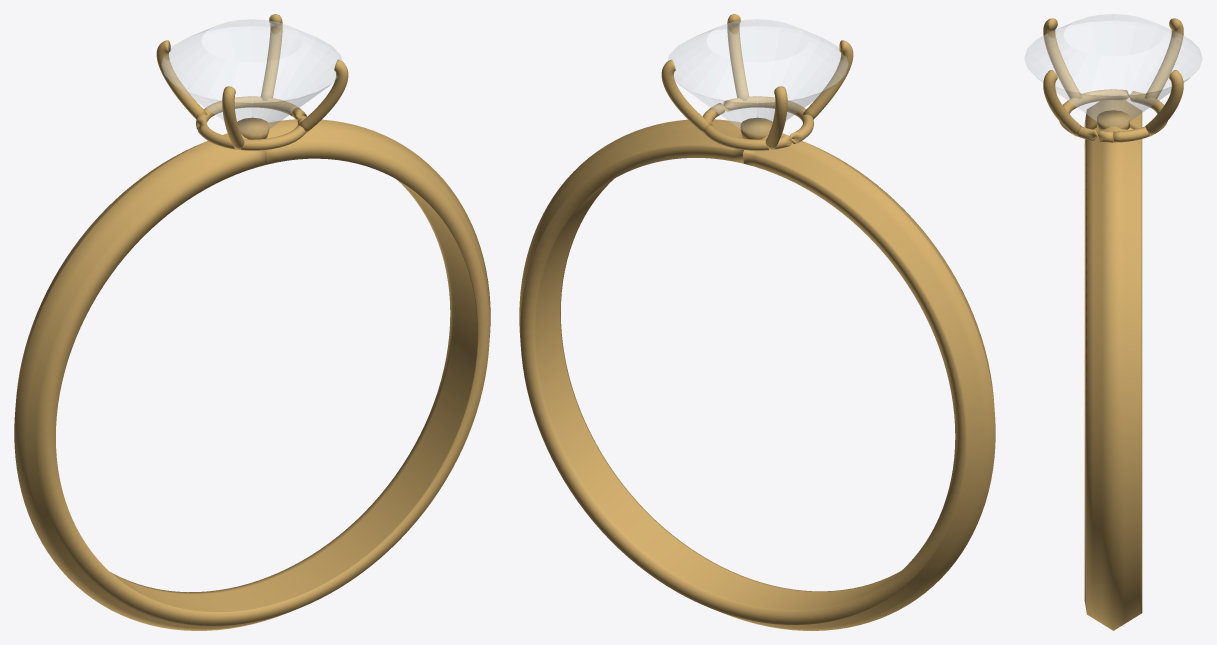
File: bands-knife-edge.glb
3 views of the same model, side by side, from view 1: azimuth 30°, elevation 25°; view 2: azimuth 150°, elevation 25°; view 3: azimuth 270°, elevation 25° (orthographic). The views are drawn at different scales.
Parts seen in each view (by area): view 1: Band, Gem, Lower gallery, Prong.001, Prong, Prong.003, Prong.002; view 2: Band, Gem, Lower gallery, Prong.002, Prong.003, Prong, Prong.001; view 3: Band, Gem, Lower gallery, Prong.001, Prong.002, Prong, Prong.003, Head stem.
Boxes of the visible parts, x1,y1,x2,y2 form: Band: (14, 119, 490, 630); Gem: (161, 19, 342, 134); Lower gallery: (196, 96, 306, 150); Prong.001: (156, 40, 207, 119); Prong: (260, 14, 282, 100); Prong.003: (297, 59, 348, 133); Prong.002: (222, 86, 244, 149); Band: (519, 119, 995, 630); Gem: (667, 19, 848, 134); Lower gallery: (703, 96, 813, 150); Prong.002: (802, 40, 853, 119); Prong.003: (727, 14, 749, 100); Prong: (661, 59, 712, 133); Prong.001: (765, 86, 787, 149); Band: (1084, 100, 1142, 630); Gem: (1024, 14, 1202, 126); Lower gallery: (1059, 89, 1167, 142); Prong.001: (1144, 18, 1183, 98); Prong.002: (1043, 18, 1082, 98); Prong: (1145, 70, 1183, 136); Prong.003: (1043, 70, 1081, 136); Head stem: (1097, 110, 1129, 129).
Size of the model in its own units: 19.6 by 22.94 by 6.5.
